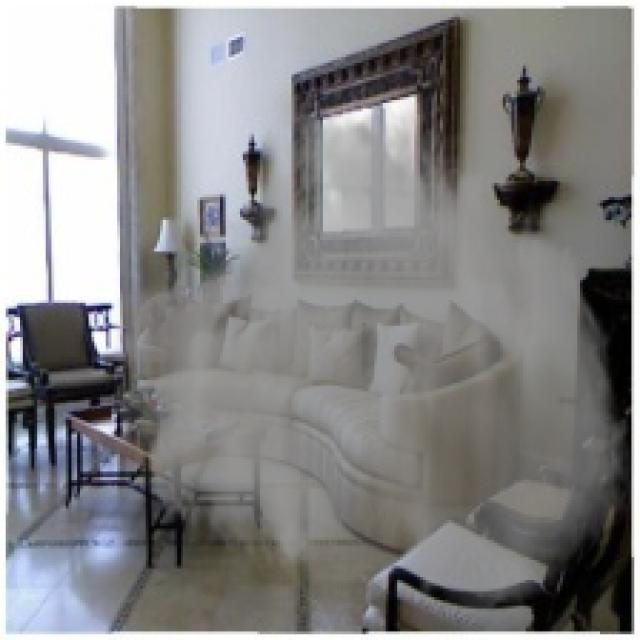Smoke: (108, 82, 638, 618)
